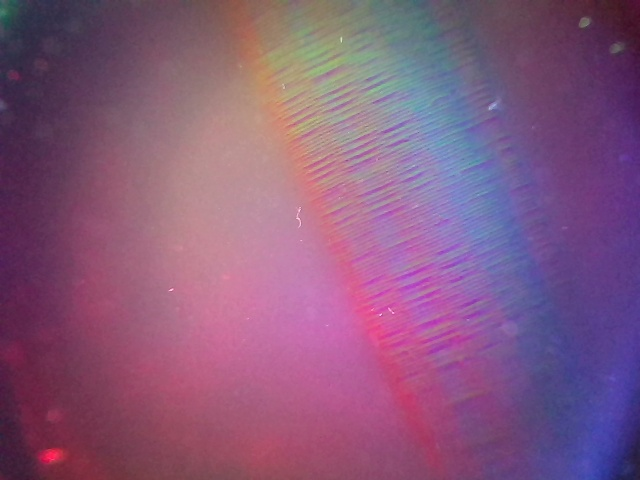contact: (221, 2, 586, 474)
